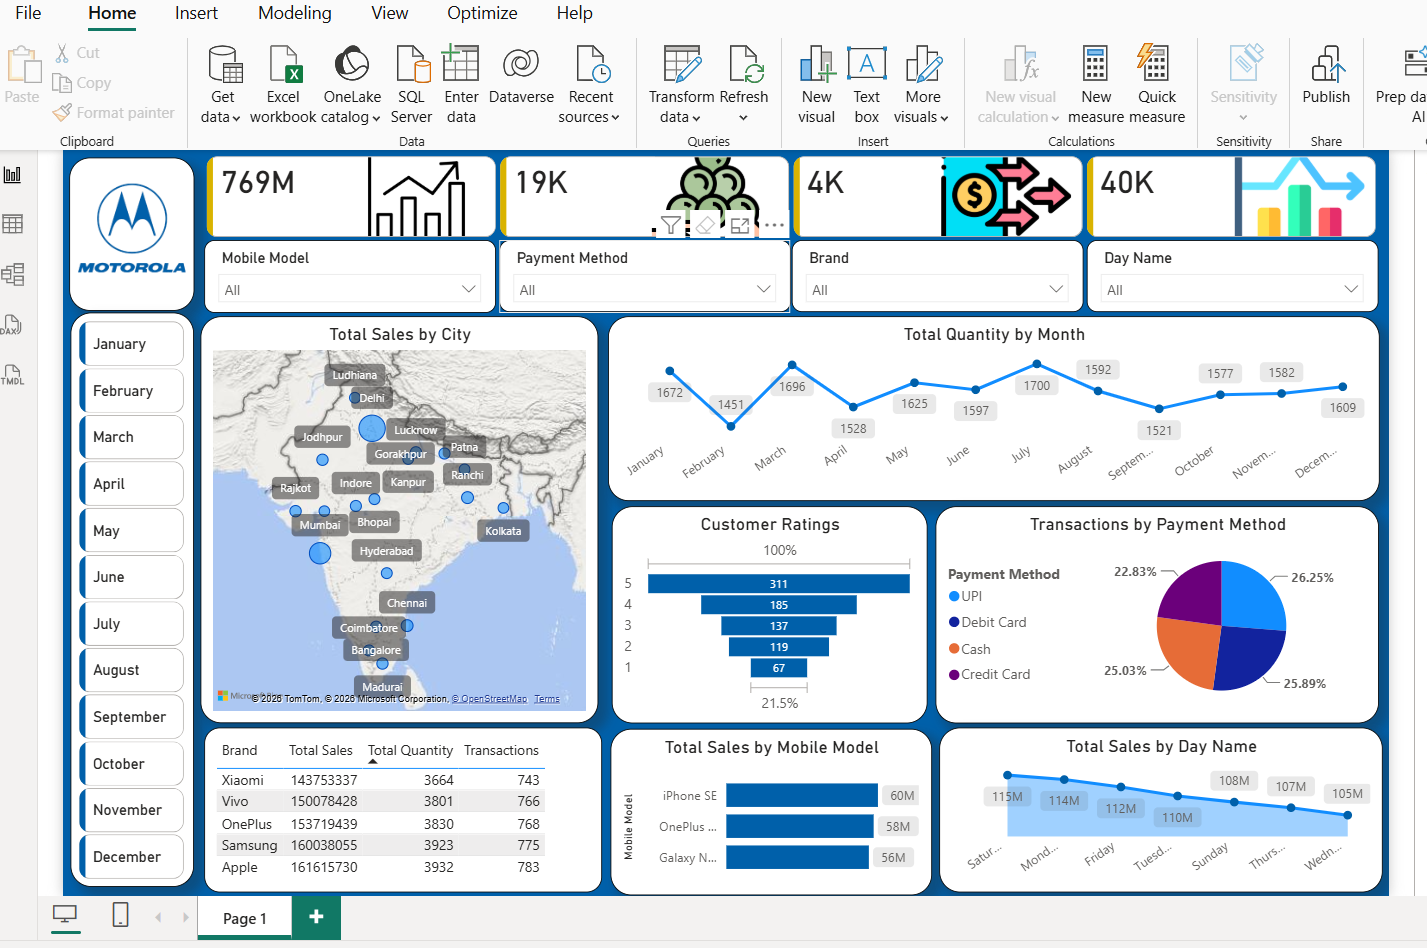

The dashboard page shown, as its layout file describes it:
{"tool":"powerbi","page":{"name":"Page 1","canvas":[1280,720],"ordinal":0},"visuals":[{"type":"shape","box":[5.5,6.9,120.8,148.2],"z":0},{"type":"image","box":[9.6,16.5,113.9,116.6],"z":1000},{"type":"shape","box":[6.9,156.4,119.4,554.4],"z":2000},{"type":"advancedSlicerVisual","fields":{"Values":["Sales_Data.Date.Variation.Date Hierarchy.Month"]},"box":[11,160.5,111.1,548.9],"z":3000},{"type":"cardVisual","fields":{"Data":["Sales_Data.Total Sales","Sales_Data.Total Quantity","Sales_Data.Transactions","Sales_Data.Average"]},"box":[134,5.6,1140.1,83.7],"z":4000},{"type":"map","fields":{"Category":["Sales_Data.City"],"Size":["Sales_Data.Total Sales"]},"box":[132.9,160.8,384.1,393.1],"z":5000},{"type":"lineChart","fields":{"Category":["Sales_Data.Date.Variation.Date Hierarchy.Month","Sales_Data.Date.Variation.Date Hierarchy.Day"],"Y":["Sales_Data.Total Quantity"]},"box":[525.9,160.8,744.8,178.7],"z":6000},{"type":"clusteredBarChart","fields":{"Category":["Sales_Data.Mobile Model"],"Y":["Sales_Data.Total Sales"]},"box":[528.3,558.5,310.1,160.5],"z":7000},{"type":"pieChart","fields":{"Category":["Sales_Data.Payment Method"],"Y":["Sales_Data.Transactions"]},"box":[842.5,344.4,428.1,209.9],"z":8000},{"type":"funnel","title":"Customer Ratings","fields":{"Category":["Sales_Data.Customer Ratings"],"Y":["CountNonNull(Sales_Data.Customer Ratings)"]},"box":[529.7,344.4,304.6,209.9],"z":9000},{"type":"areaChart","fields":{"Category":["Sales_Data.Day Name"],"Y":["Sales_Data.Total Sales"]},"box":[845.3,557.1,428.1,159.2],"z":10000},{"type":"tableEx","fields":{"Values":["Sales_Data.Brand","Sales_Data.Total Sales","Sales_Data.Total Quantity","Sales_Data.Transactions"]},"box":[135.8,557.1,384.2,159.2],"z":11000},{"type":"slicer","fields":{"Values":["Sales_Data.Mobile Model"]},"box":[136.2,87.1,281.4,70.3],"z":12000},{"type":"slicer","fields":{"Values":["Sales_Data.Payment Method"]},"box":[421,87.1,281.4,69.2],"z":13000},{"type":"slicer","fields":{"Values":["Sales_Data.Brand"]},"box":[703.5,87.1,281.4,69.2],"z":14000},{"type":"slicer","fields":{"Values":["Sales_Data.Day Name"]},"box":[988.2,87.1,281.4,69.2],"z":15000}]}

Visuals, with their boxes on the page's 1280x720 design canvas (x1, y1, x2, y2). These are canvas units, not pixel positions in the 1427x948 screenshot, which may show the page scaled, cropped or inside an application window:
shape: x1=6, y1=7, x2=126, y2=155
image: x1=10, y1=16, x2=124, y2=133
shape: x1=7, y1=156, x2=126, y2=711
advancedSlicerVisual - Sales_Data.Date.Variation.Date Hierarchy.Month: x1=11, y1=160, x2=122, y2=709
cardVisual - Sales_Data.Total Sales x Sales_Data.Total Quantity: x1=134, y1=6, x2=1274, y2=89
map - Sales_Data.City x Sales_Data.Total Sales: x1=133, y1=161, x2=517, y2=554
lineChart - Sales_Data.Date.Variation.Date Hierarchy.Month x Sales_Data.Date.Variation.Date Hierarchy.Day: x1=526, y1=161, x2=1271, y2=340
clusteredBarChart - Sales_Data.Mobile Model x Sales_Data.Total Sales: x1=528, y1=558, x2=838, y2=719
pieChart - Sales_Data.Payment Method x Sales_Data.Transactions: x1=842, y1=344, x2=1271, y2=554
"Customer Ratings" funnel: x1=530, y1=344, x2=834, y2=554
areaChart - Sales_Data.Day Name x Sales_Data.Total Sales: x1=845, y1=557, x2=1273, y2=716
tableEx - Sales_Data.Brand x Sales_Data.Total Sales: x1=136, y1=557, x2=520, y2=716
slicer - Sales_Data.Mobile Model: x1=136, y1=87, x2=418, y2=157
slicer - Sales_Data.Payment Method: x1=421, y1=87, x2=702, y2=156
slicer - Sales_Data.Brand: x1=704, y1=87, x2=985, y2=156
slicer - Sales_Data.Day Name: x1=988, y1=87, x2=1270, y2=156
